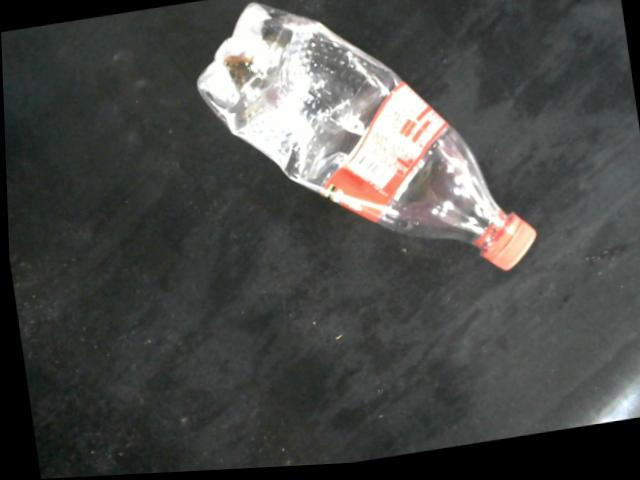bottle: (195, 4, 535, 276)
